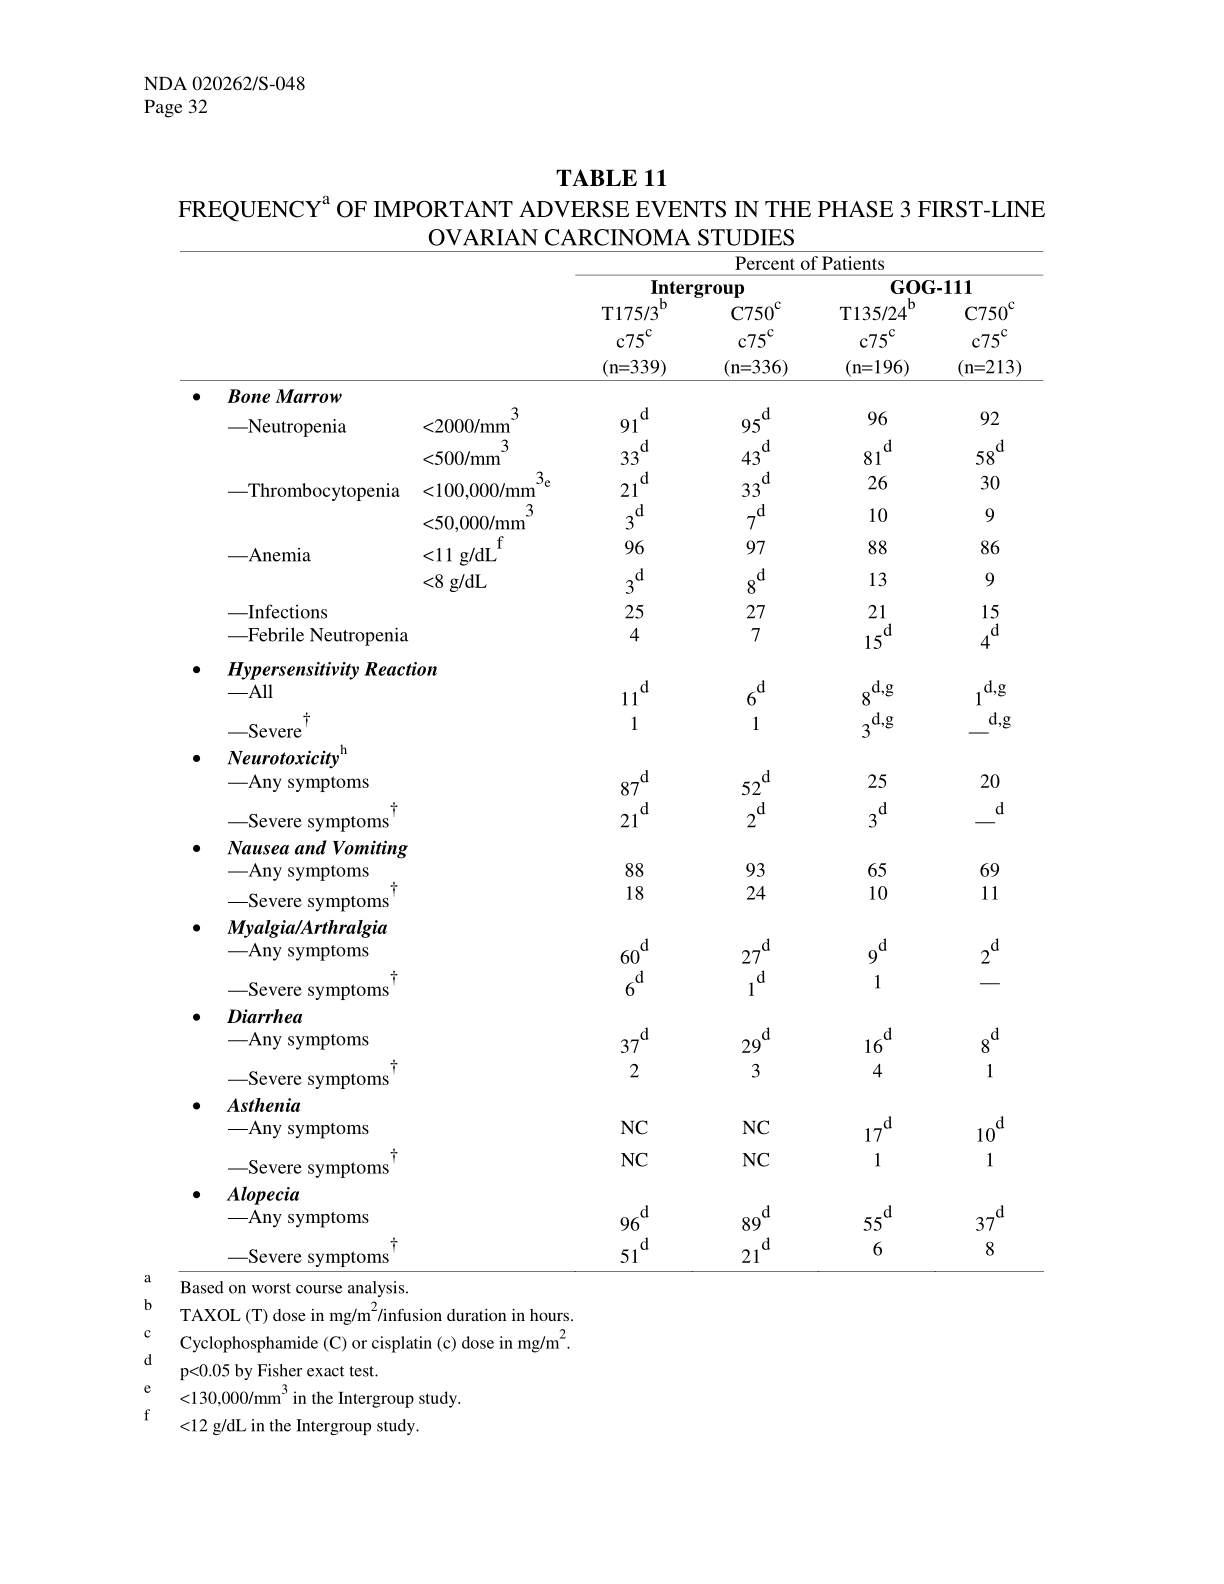partial_lined_merged_cells: (177, 247, 1044, 1275)
